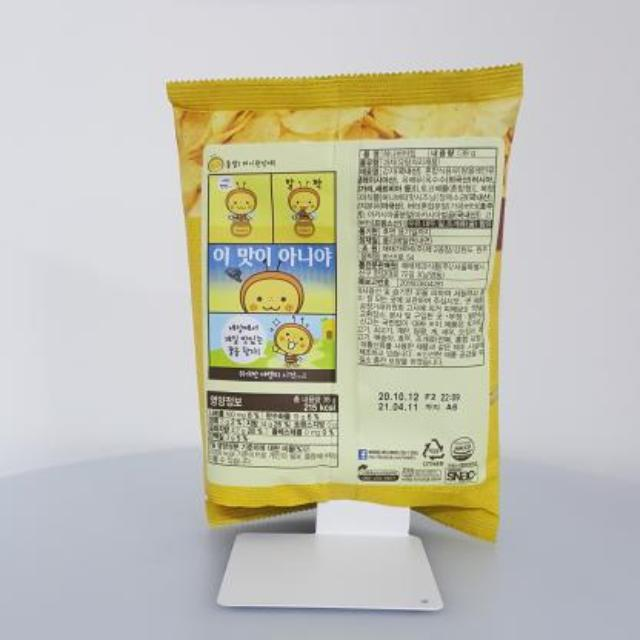snack_bag: (158, 57, 544, 553)
